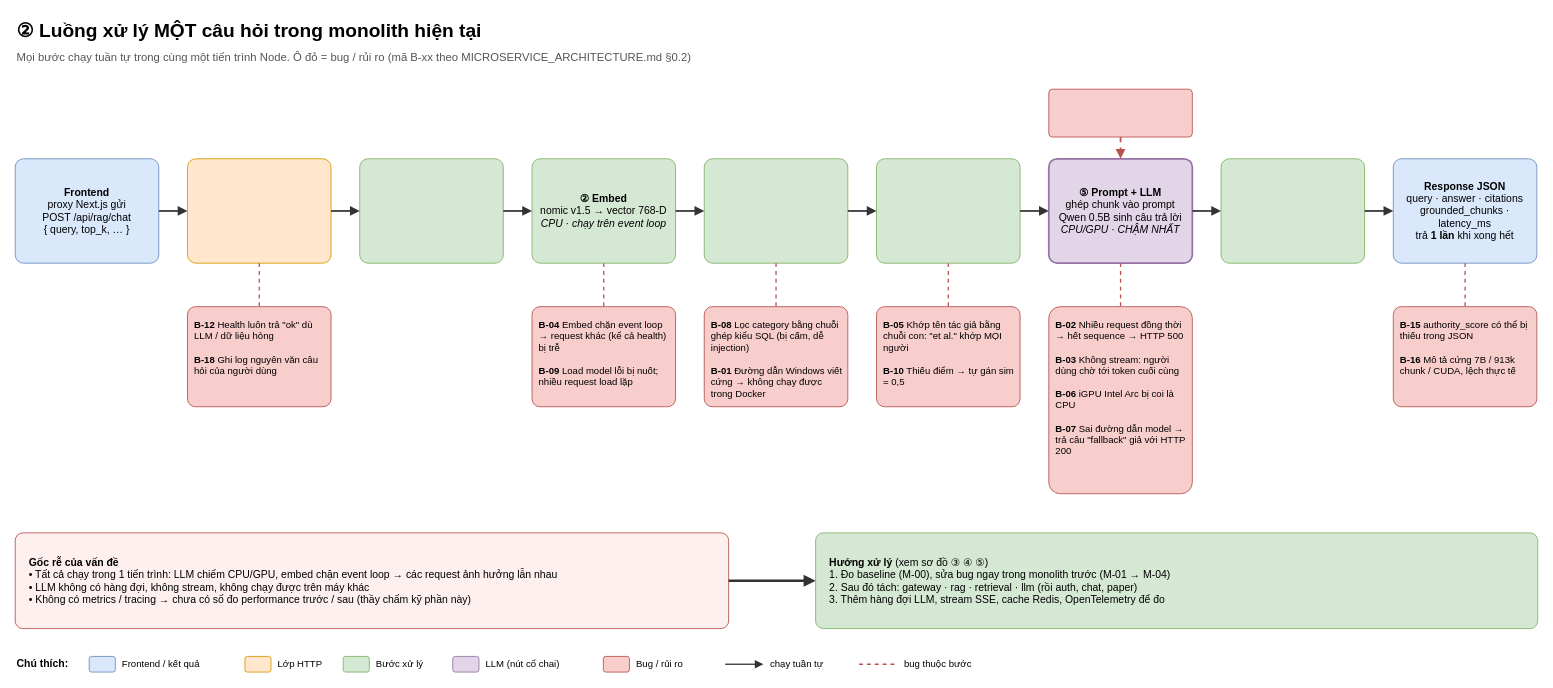
This 1553x688 diagram has some shape labels left out. The shapes that lost their labels are listed below. From the top down, each one's centre as x and y in pixels, then its label:
point (1120, 112): Request #2 đến cùng lúc không có hàng đợi → lỗi
point (259, 210): RagController ValidationPipe kiểm QueryDto (top_k 1–20, mặc định 5)
point (431, 210): ① Mở rộng query (chỉ khi expand_query) luật FP-Growth trong RAM CPU · rất nhanh
point (775, 210): ③ Tìm vector LanceDB cosine lấy max(top_k×3, 20) đĩa local hoặc R2
point (948, 210): ④ Rerank 0.85 × sim + 0.15 × authority cắt còn top_k CPU
point (1292, 210): ⑥ Trích citation regex [Paper: id], [n], … CPU
